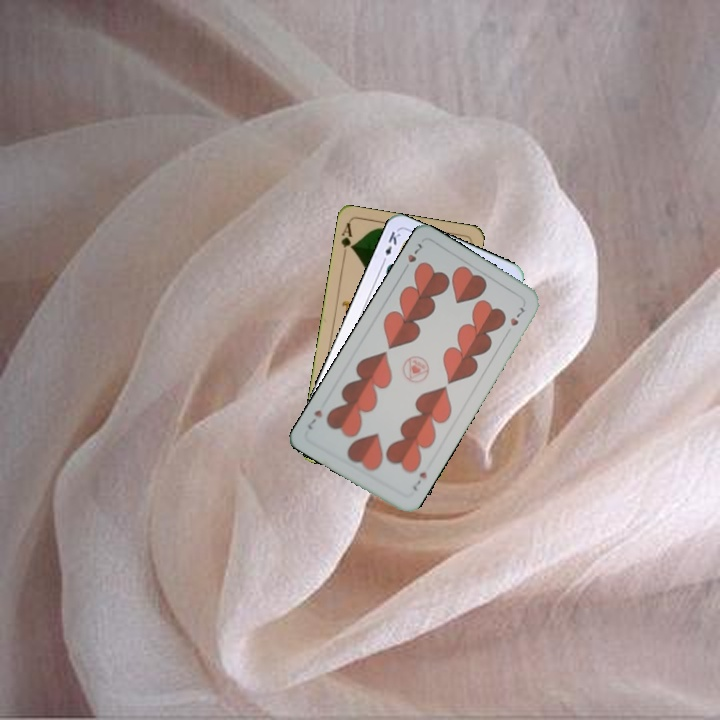EK: (378, 227, 403, 266)
GA: (337, 220, 356, 260)
H7: (399, 239, 426, 275), (408, 467, 430, 494)
